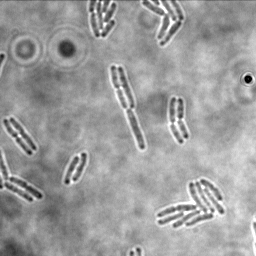Dividing: (2, 118, 34, 156), (9, 116, 39, 150), (9, 175, 43, 199), (168, 96, 185, 144), (110, 65, 128, 109), (3, 181, 35, 203), (176, 97, 190, 138)
Microcolony: (156, 178, 226, 230), (141, 1, 184, 47), (88, 1, 118, 40)
Rod: (124, 108, 147, 151), (117, 65, 136, 109), (71, 152, 88, 182), (63, 155, 80, 185)
